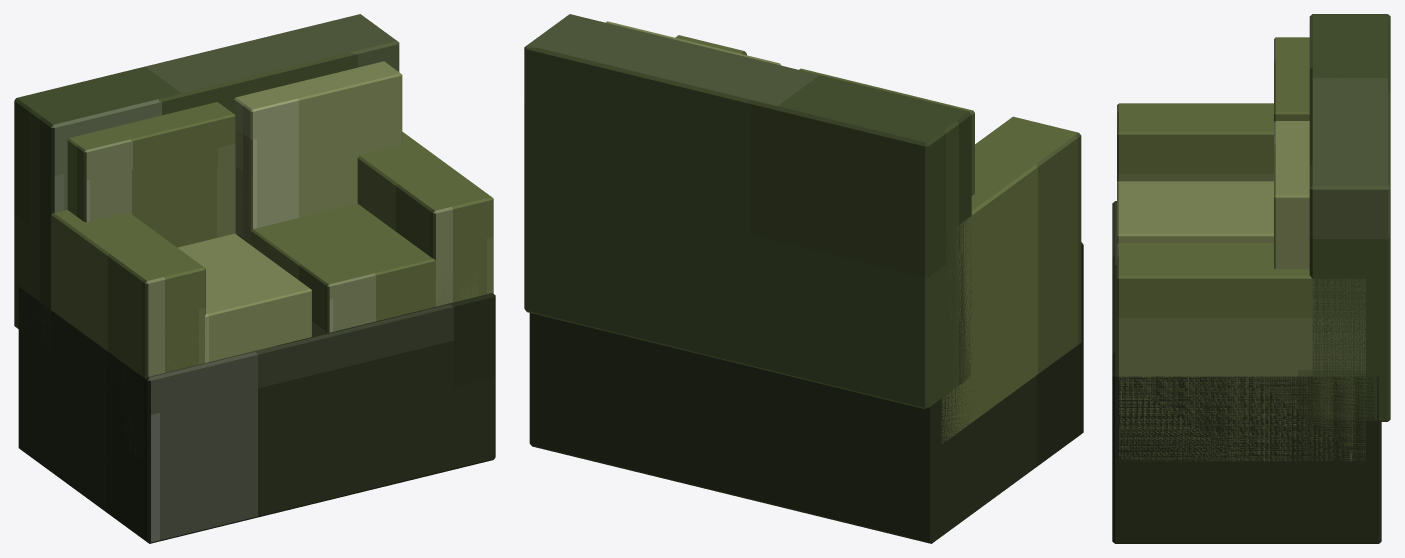
File: lounge_couch_olive.glb
3 renders of one model, left to right at view 1: azimuth 30°, elevation 25°; view 2: azimuth 150°, elevation 25°; view 3: azimuth 270°, elevation 25°, orthographic. The views are drawn at different scales.
Visible parts, largest first — view 1: CouchBase, CouchBack, BackCushion_2, CouchArm_L, BackCushion_1, SeatCushion_2, CouchArm_R, SeatCushion_1; view 2: CouchBack, CouchBase, CouchArm_L, BackCushion_1; view 3: CouchBase, CouchArm_R, CouchBack, CouchArm_L, SeatCushion_1, BackCushion_2, BackCushion_1, SeatCushion_2.
Part boxes in pixels (x1=…): CouchBase: x1=18, y1=286, x2=495, y2=543; CouchBack: x1=14, y1=14, x2=399, y2=349; BackCushion_2: x1=234, y1=61, x2=402, y2=242; CouchArm_L: x1=51, y1=210, x2=205, y2=459; BackCushion_1: x1=67, y1=102, x2=235, y2=247; SeatCushion_2: x1=237, y1=203, x2=477, y2=332; CouchArm_R: x1=357, y1=132, x2=493, y2=306; SeatCushion_1: x1=178, y1=233, x2=311, y2=362; CouchBack: x1=524, y1=14, x2=971, y2=409; CouchBase: x1=529, y1=242, x2=1083, y2=543; CouchArm_L: x1=941, y1=116, x2=1081, y2=443; BackCushion_1: x1=799, y1=68, x2=974, y2=195; CouchBase: x1=1112, y1=201, x2=1381, y2=543; CouchArm_R: x1=1117, y1=247, x2=1365, y2=461; CouchBack: x1=1309, y1=14, x2=1390, y2=421; CouchArm_L: x1=1117, y1=103, x2=1273, y2=181; SeatCushion_1: x1=1117, y1=181, x2=1273, y2=243; BackCushion_2: x1=1274, y1=121, x2=1309, y2=269; BackCushion_1: x1=1274, y1=37, x2=1309, y2=121; SeatCushion_2: x1=1117, y1=243, x2=1273, y2=248.
Bounding box in the file's own units: 0.92 × 0.91 × 0.62.
1 material, 1 textured.
